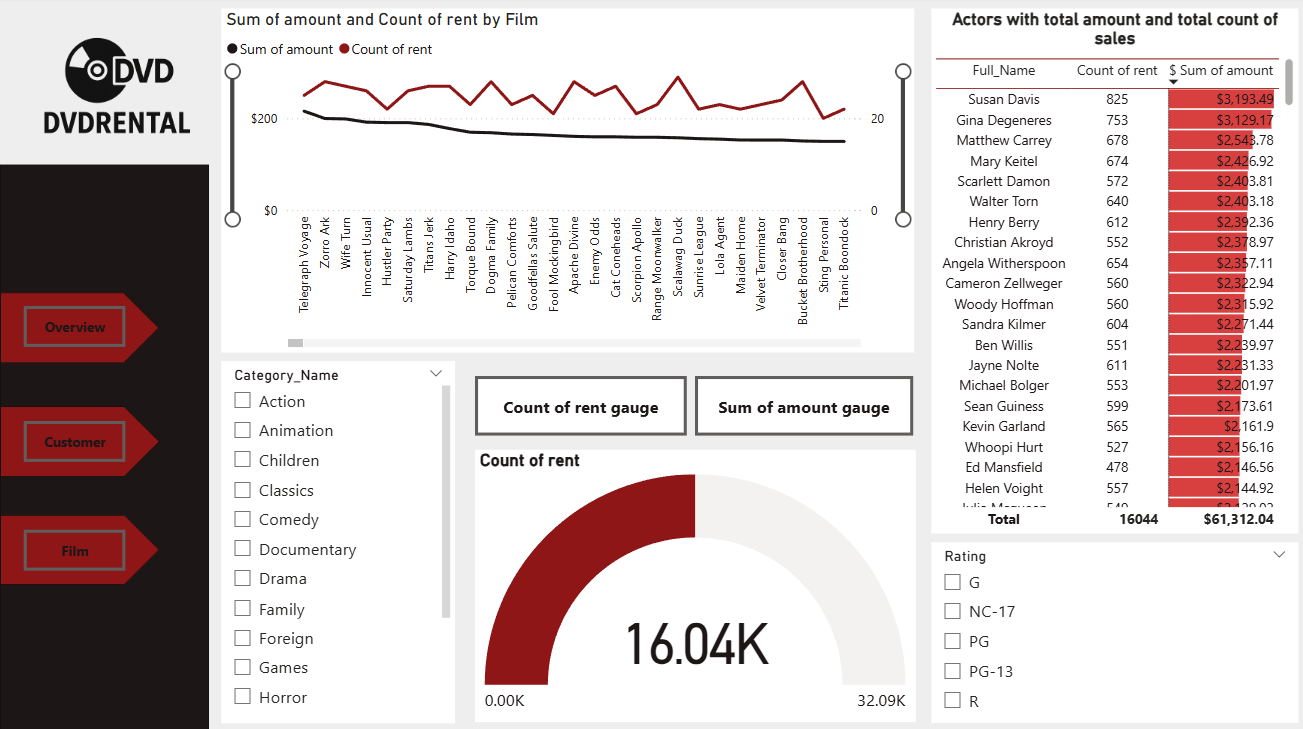

This screenshot's page, from the dashboard's own definition file:
{"tool":"powerbi","page":{"name":"Film","canvas":[1280,720],"ordinal":2},"visuals":[{"type":"shape","box":[0,165.6,204.5,554.4],"z":0},{"type":"image","box":[0,0,229.2,188],"z":1000},{"type":"shape","box":[0,289.5,157,70],"z":2000},{"type":"shape","box":[0,400.7,156.4,70],"z":3000},{"type":"shape","box":[0,507.7,157,69],"z":4000},{"type":"pivotTable","title":"Actors with total amount and total count of sales","fields":{"Rows":["actor.full_name"],"Values":["rental.rental_id","payment.amount"]},"box":[911.2,12.3,359.5,513.2],"z":5000},{"type":"gauge","fields":{"Y":["rental.rental_id"]},"box":[464.1,443.3,431.2,266.7],"z":6000},{"type":"slicer","fields":{"Values":["category.name"]},"box":[216.8,356.8,229.2,354],"z":7000},{"type":"lineChart","title":"Sum of amount and Count of rent by Film","fields":{"Category":["film.title"],"Y":["payment.amount"],"Y2":["payment.rental_id"]},"box":[216.8,12.3,677.9,336.2],"z":8000},{"type":"slicer","fields":{"Values":["film.rating"]},"box":[911.2,533.8,359.5,177],"z":9000},{"type":"actionButton","box":[464.2,371.1,207.3,58.3],"z":11000},{"type":"actionButton","box":[680.2,371.1,213.5,58.3],"z":12000},{"type":"actionButton","box":[23.2,522.1,100.3,40.4],"z":13000},{"type":"actionButton","box":[23.2,415.8,100.3,40.4],"z":14000},{"type":"actionButton","box":[23.2,303.3,100.3,40.4],"z":15000}]}

Visuals, with their boxes in screenshot pixels (x1, y1, x2, y2), scaled from the page's 1280x720 canvas onto the 1303x729 screenshot:
shape: <bbox>0, 168, 208, 728</bbox>
image: <bbox>0, 0, 233, 190</bbox>
shape: <bbox>0, 293, 160, 364</bbox>
shape: <bbox>0, 406, 159, 477</bbox>
shape: <bbox>0, 514, 160, 584</bbox>
"Actors with total amount and total count of sales" pivotTable: <bbox>928, 12, 1294, 532</bbox>
gauge - rental.rental_id: <bbox>472, 449, 911, 719</bbox>
slicer - category.name: <bbox>221, 361, 454, 720</bbox>
"Sum of amount and Count of rent by Film" lineChart: <bbox>221, 12, 911, 353</bbox>
slicer - film.rating: <bbox>928, 540, 1294, 720</bbox>
actionButton: <bbox>473, 376, 684, 435</bbox>
actionButton: <bbox>692, 376, 910, 435</bbox>
actionButton: <bbox>24, 529, 126, 570</bbox>
actionButton: <bbox>24, 421, 126, 462</bbox>
actionButton: <bbox>24, 307, 126, 348</bbox>
